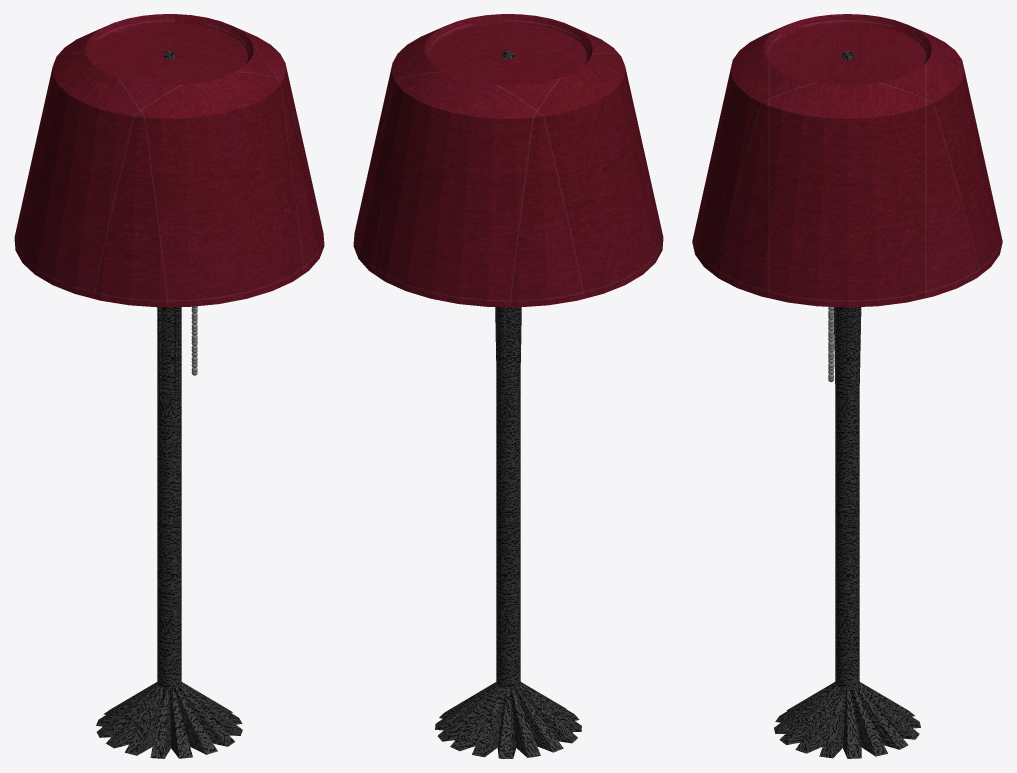
Rendered from торшер.fbx.
3 views of the same model, side by side, from view 1: azimuth 30°, elevation 25°; view 2: azimuth 150°, elevation 25°; view 3: azimuth 270°, elevation 25° (orthographic).
Parts seen in each view (by area): view 1: Sphere.071; view 2: Sphere.071; view 3: Sphere.071.
Boxes of the visible parts, bbox=[...] form: Sphere.071: bbox=[14, 14, 324, 758]; Sphere.071: bbox=[353, 14, 663, 758]; Sphere.071: bbox=[692, 14, 1002, 758].
Bounding box in the file's own units: 897 × 2161 × 897.
6 materials, 6 textured.
